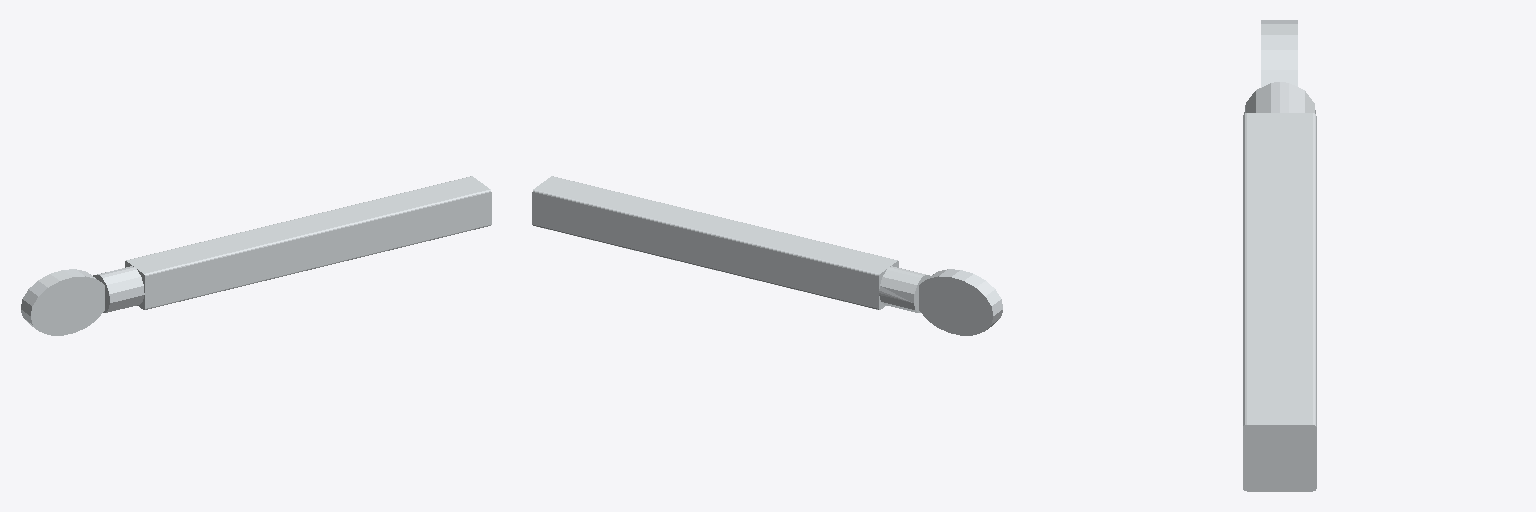
The robot description file, URDF, robot "spoon":
<?xml version="1.0" encoding="utf-8"?>
<!-- This URDF was automatically created by SolidWorks to URDF Exporter! Originally created by [author] ([email redacted]) 
     Commit Version: 1.6.0-1-g15f4949  Build Version: 1.6.7594.29634
     For more information, please see http://wiki.ros.org/sw_urdf_exporter -->
<robot
  name="spoon">
  <link
    name="base_link">
    <inertial>
      <origin
        xyz="-0.011477 0.0050023 -7.642E-09"
        rpy="0 0 0" />
      <mass
        value="0.032987" />
      <inertia
        ixx="5.4251E-07"
        ixy="3.2706E-09"
        ixz="-1.5044E-11"
        iyy="4.3542E-05"
        iyz="-6.2131E-14"
        izz="4.3493E-05" />
    </inertial>
    <visual>
      <origin
        xyz="0 0 0"
        rpy="0 0 0" />
      <geometry>
        <mesh
          filename="package://spoon/meshes/base_link.obj" />
      </geometry>
      <material
        name="">
        <color
          rgba="0.89804 0.91765 0.92941 1" />
      </material>
    </visual>
    <collision>
      <origin
        xyz="0 0 0"
        rpy="0 0 0" />
      <geometry>
        <mesh
          filename="package://spoon/meshes/base_link.obj" />
      </geometry>
    </collision>
  </link>
</robot>

--- What the picture shows (computed from the rendered views, not written in the file) ---
The picture shows the robot from 3 angles, left to right: view 1: azimuth 30°, elevation 25°; view 2: azimuth 150°, elevation 25°; view 3: azimuth 270°, elevation 25°; orthographic projection.
Model spoon with 1 links and 0 joints (none), rooted at base_link, posed all joints at 0.
Links seen in each view (by area): view 1: base_link; view 2: base_link; view 3: base_link.
Boxes of the visible links, box(x1,y1,x2,y2) form: base_link: box(21, 176, 491, 335); base_link: box(532, 176, 1002, 335); base_link: box(1243, 20, 1316, 491).
Bounding box of the posed robot: 0.1315 × 0.01 × 0.0155 m (x, y, z).
1 mesh visuals loaded from 1 distinct referenced files (1 OBJ).